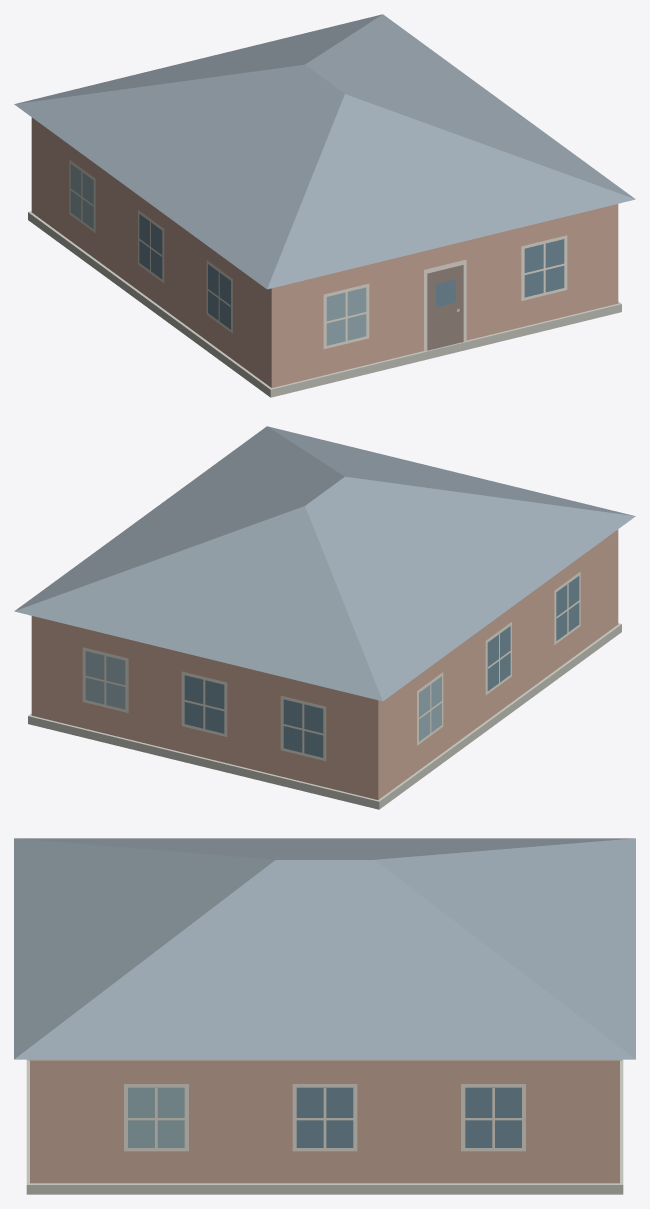
File: house-hip-clay.glb
3 renders of one model, top to bottom at view 1: azimuth 30°, elevation 25°; view 2: azimuth 150°, elevation 25°; view 3: azimuth 270°, elevation 25°, orthographic. The views are drawn at different scales.
Parts seen in each view (by area): view 1: house-hip-clay; view 2: house-hip-clay; view 3: house-hip-clay.
Boxes of the visible parts, x1,y1,x2,y2 form: house-hip-clay: (14, 14, 635, 397); house-hip-clay: (14, 426, 635, 809); house-hip-clay: (14, 838, 635, 1194).
Size of the model in its own units: 10.65 by 5.15 by 12.65.
